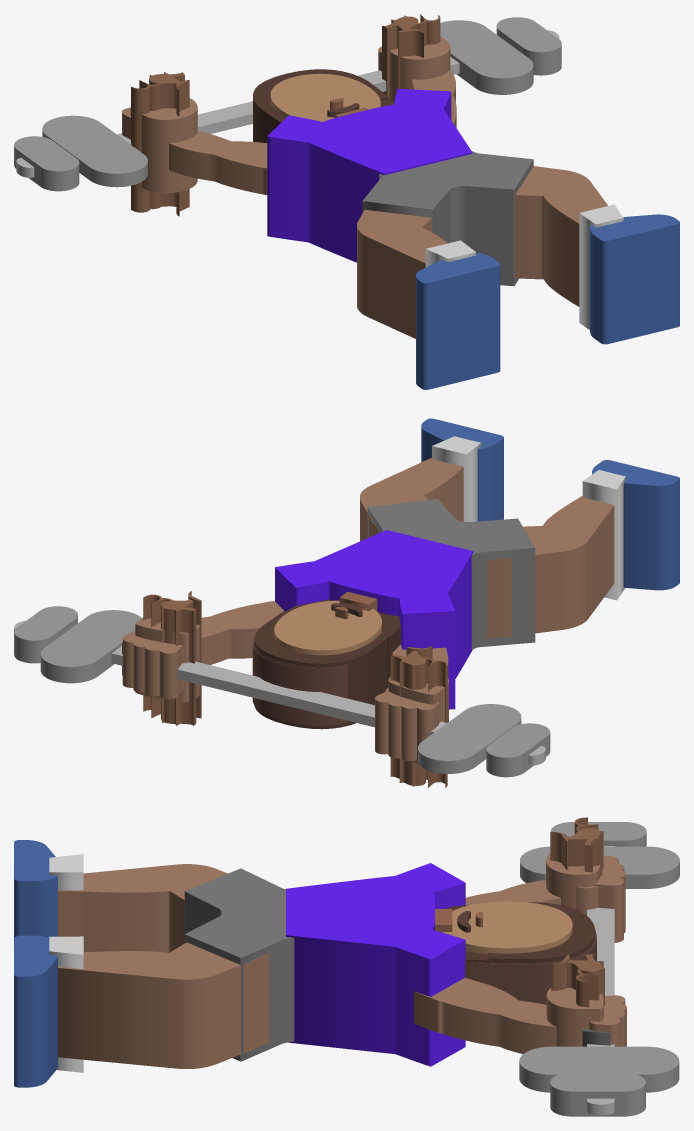
File: emoji_u1f3cb_1f3fd_200d_2640.glb
3 views of the same model, one above another, from view 1: azimuth 30°, elevation 25°; view 2: azimuth 150°, elevation 25°; view 3: azimuth 270°, elevation 25° (orthographic). The views are drawn at different scales.
Visible parts, largest first — view 1: emoji_u1f3cb_1f3fd_200d_2640; view 2: emoji_u1f3cb_1f3fd_200d_2640; view 3: emoji_u1f3cb_1f3fd_200d_2640.
Part boxes in pixels (bbox=[...]): emoji_u1f3cb_1f3fd_200d_2640: bbox=[14, 14, 679, 389]; emoji_u1f3cb_1f3fd_200d_2640: bbox=[14, 418, 679, 787]; emoji_u1f3cb_1f3fd_200d_2640: bbox=[14, 817, 679, 1116].
Size of the model in its own units: 0.0338 by 0.0076 by 0.0338.
